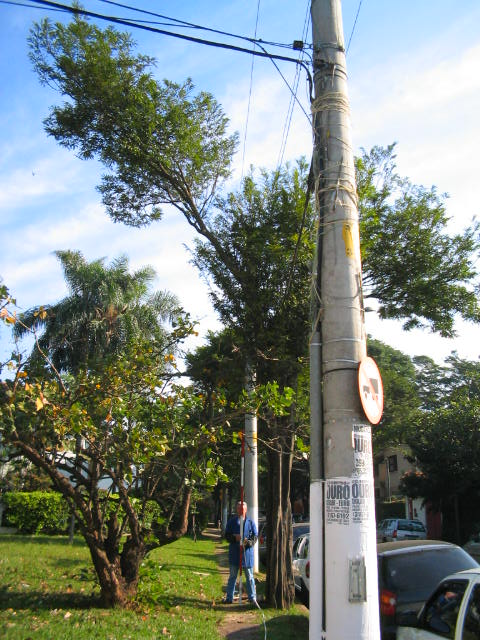crown: (199, 142, 478, 413)
stem: (258, 419, 312, 607), (88, 550, 156, 609)
stick: (232, 430, 251, 604)
tree: (195, 139, 480, 609), (2, 301, 228, 609)
